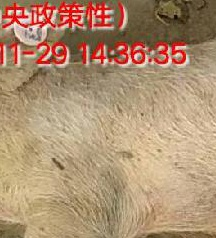text: (2, 2, 49, 54)
